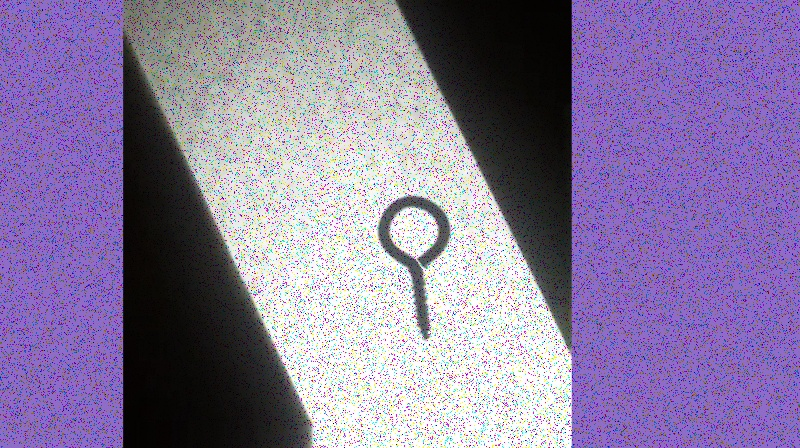O001: (375, 188, 453, 345)
